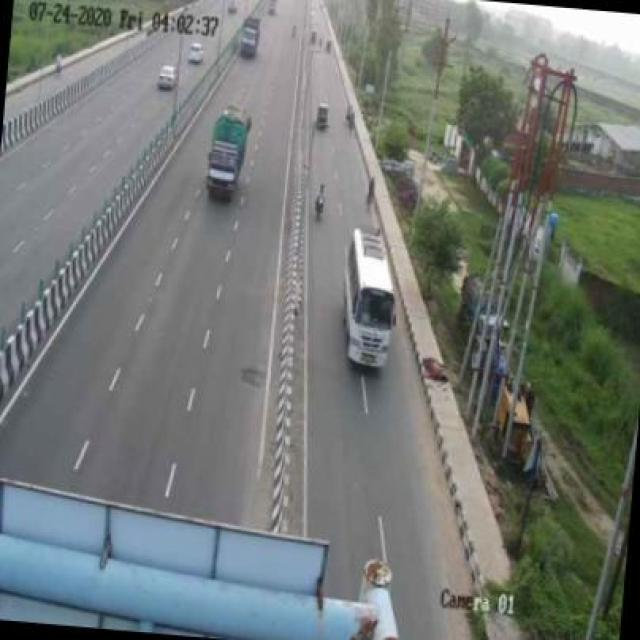car: (201, 98, 258, 203)
